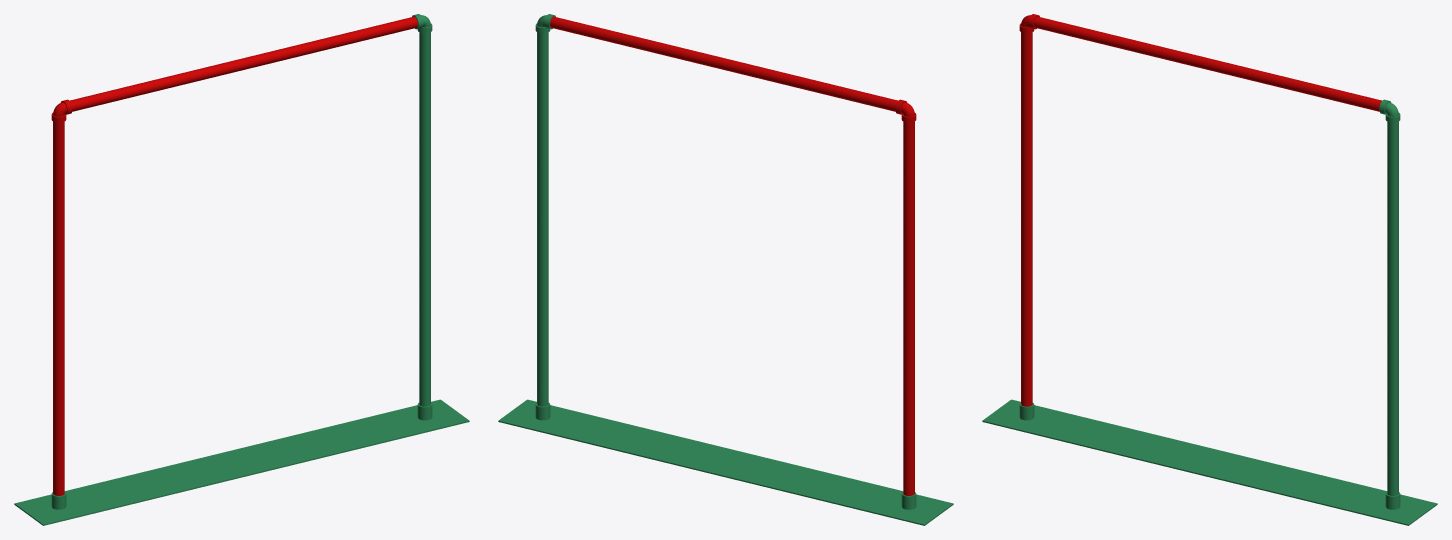
The model's file is Gate.obj.
3 views of the same model, side by side, from view 1: azimuth 30°, elevation 25°; view 2: azimuth 150°, elevation 25°; view 3: azimuth 330°, elevation 25° (orthographic).
Parts seen in each view (by area): view 1: Solid1, Solid1:1, Solid1:2, Solid1:3; view 2: Solid1, Solid1:1, Solid1:2, Solid1:3; view 3: Solid1, Solid1:1, Solid1:2, Solid1:3.
Part boxes in pixels (x1,y1,x2,y2): Solid1: (14, 399, 469, 525); Solid1:1: (53, 121, 64, 495); Solid1:2: (419, 32, 430, 406); Solid1:3: (70, 16, 417, 111); Solid1: (498, 399, 953, 525); Solid1:1: (903, 121, 914, 495); Solid1:2: (537, 32, 548, 406); Solid1:3: (550, 16, 897, 111); Solid1: (982, 399, 1437, 525); Solid1:1: (1021, 32, 1032, 406); Solid1:2: (1387, 121, 1398, 495); Solid1:3: (1034, 16, 1381, 111).
Bounding box in the file's own units: 1.7 × 1.54 × 0.2.
